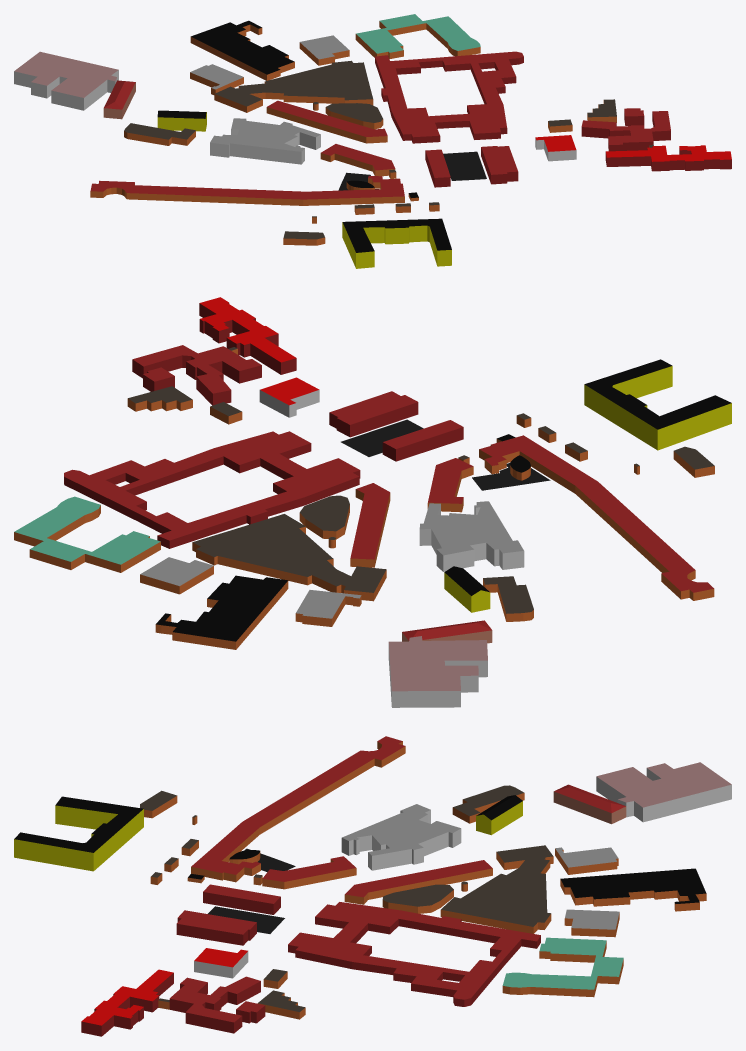
The model's file is KTH-map.obj.
The picture shows the model from 3 angles, top to bottom: view 1: azimuth 30°, elevation 25°; view 2: azimuth 150°, elevation 25°; view 3: azimuth 270°, elevation 25°; orthographic projection. The views are drawn at different scales.
Visible parts, largest first — view 1: map_4.osm_buildings, map_4.osm_highways; view 2: map_4.osm_buildings, map_4.osm_highways; view 3: map_4.osm_buildings, map_4.osm_highways.
Boxes of the visible parts, x1,y1,x2,y2 form: map_4.osm_buildings: [14, 14, 731, 268]; map_4.osm_highways: [338, 151, 486, 190]; map_4.osm_buildings: [14, 297, 731, 707]; map_4.osm_highways: [341, 419, 550, 490]; map_4.osm_buildings: [14, 736, 731, 1036]; map_4.osm_highways: [208, 848, 295, 933].
Size of the model in its own units: 510 by 15 by 528.
